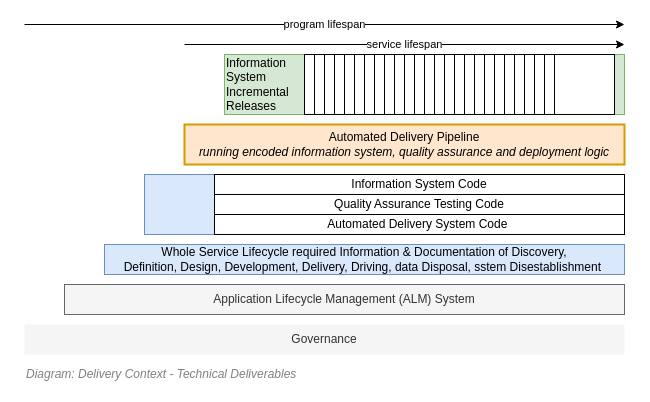
This 650x402 diagram has some shape labels left out. Here are the shapes that lost their labels. From the top down, the box of each, then its label:
(554, 54, 614, 114): ...etc..
(144, 174, 624, 234): Git based Code Repository
